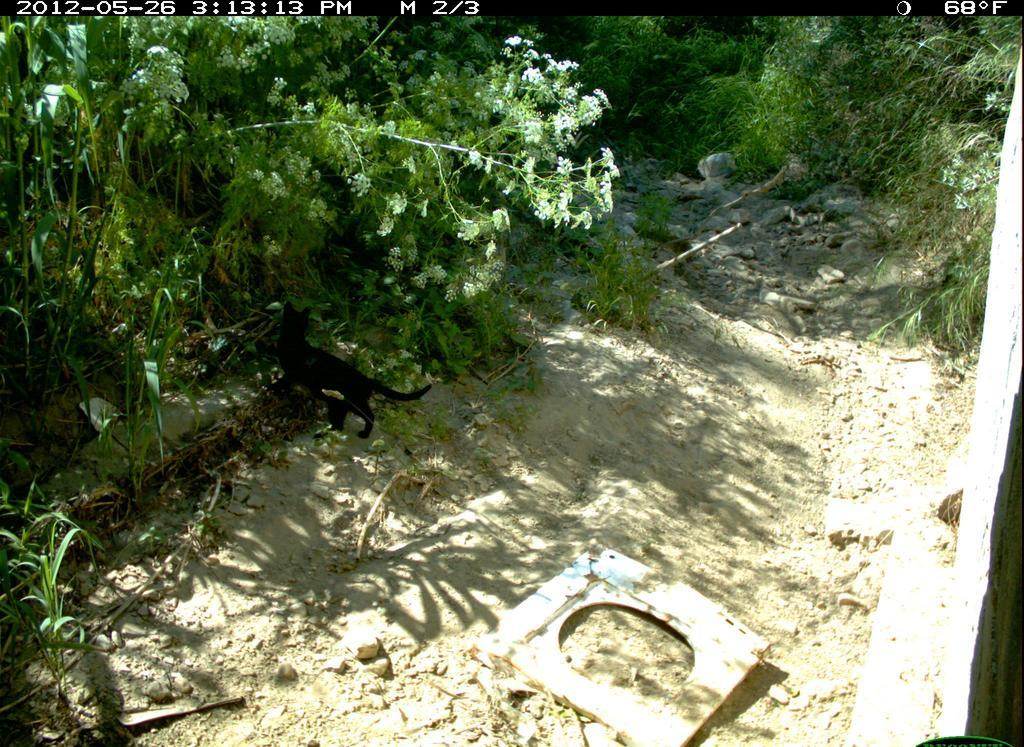cat: (262, 292, 436, 451)
